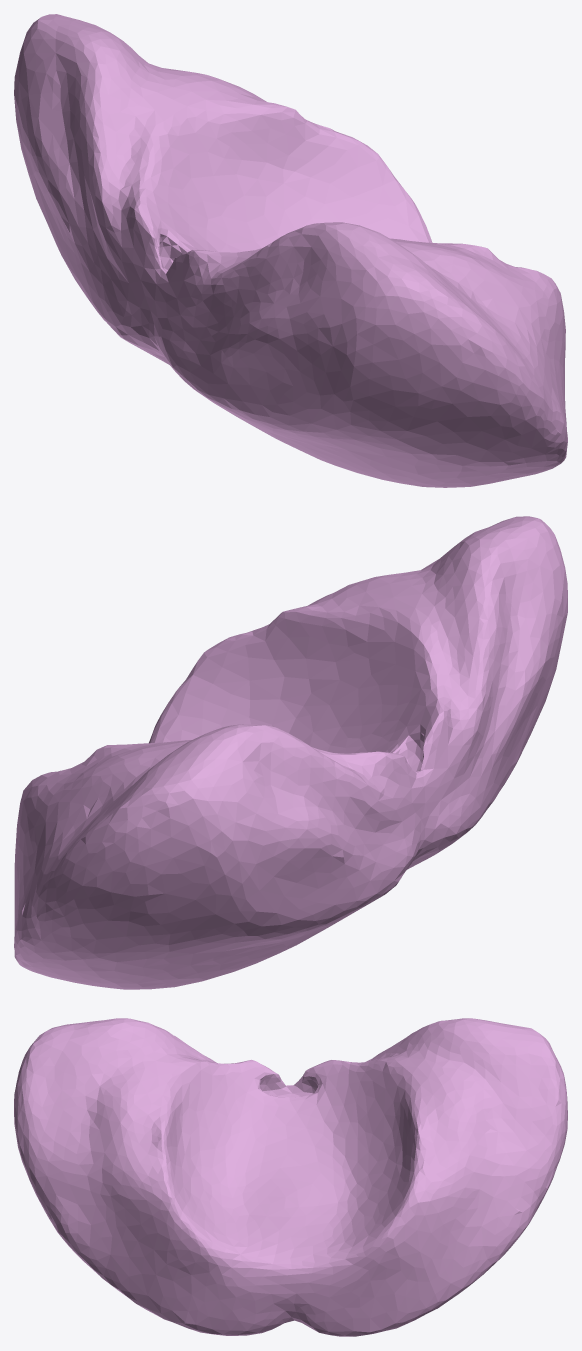
3 views of the same model, one above another, from view 1: azimuth 30°, elevation 25°; view 2: azimuth 150°, elevation 25°; view 3: azimuth 270°, elevation 25° (orthographic). The views are drawn at different scales.
Parts seen in each view (by area): view 1: 294.obj; view 2: 294.obj; view 3: 294.obj.
Boxes of the visible parts, x1=… form: 294.obj: x1=14, y1=14, x2=567, y2=487; 294.obj: x1=14, y1=516, x2=567, y2=989; 294.obj: x1=14, y1=1018, x2=567, y2=1336.
Bounding box in the file's own units: 1984 × 1922 × 4082.
